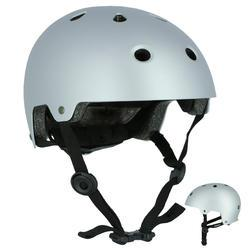helmet: (25, 7, 236, 231)
